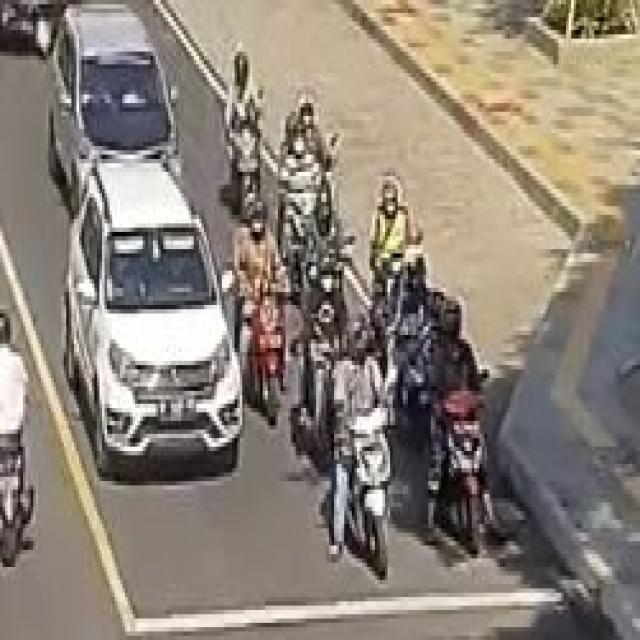car: (64, 157, 241, 486), (45, 7, 180, 218)
motorbike: (333, 316, 405, 603), (434, 312, 484, 567), (244, 190, 288, 420), (2, 291, 35, 570)
